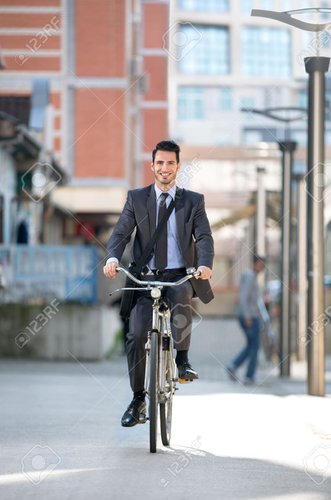bikerider: (96, 117, 221, 468)
